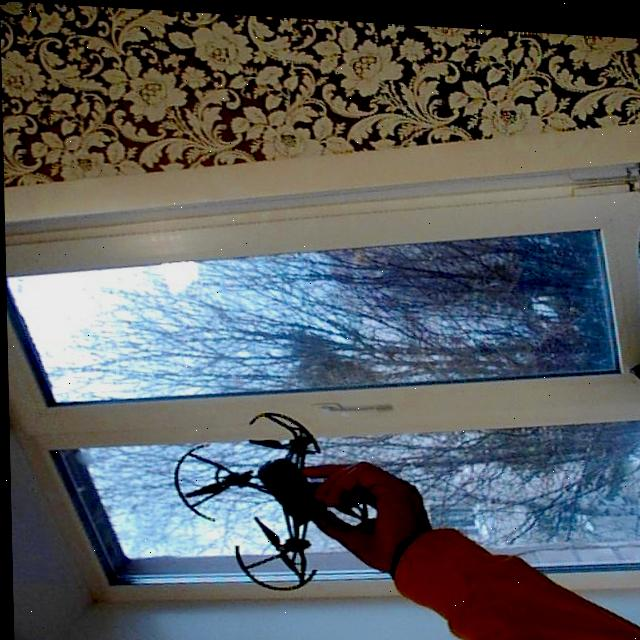drone: (162, 382, 399, 597)
